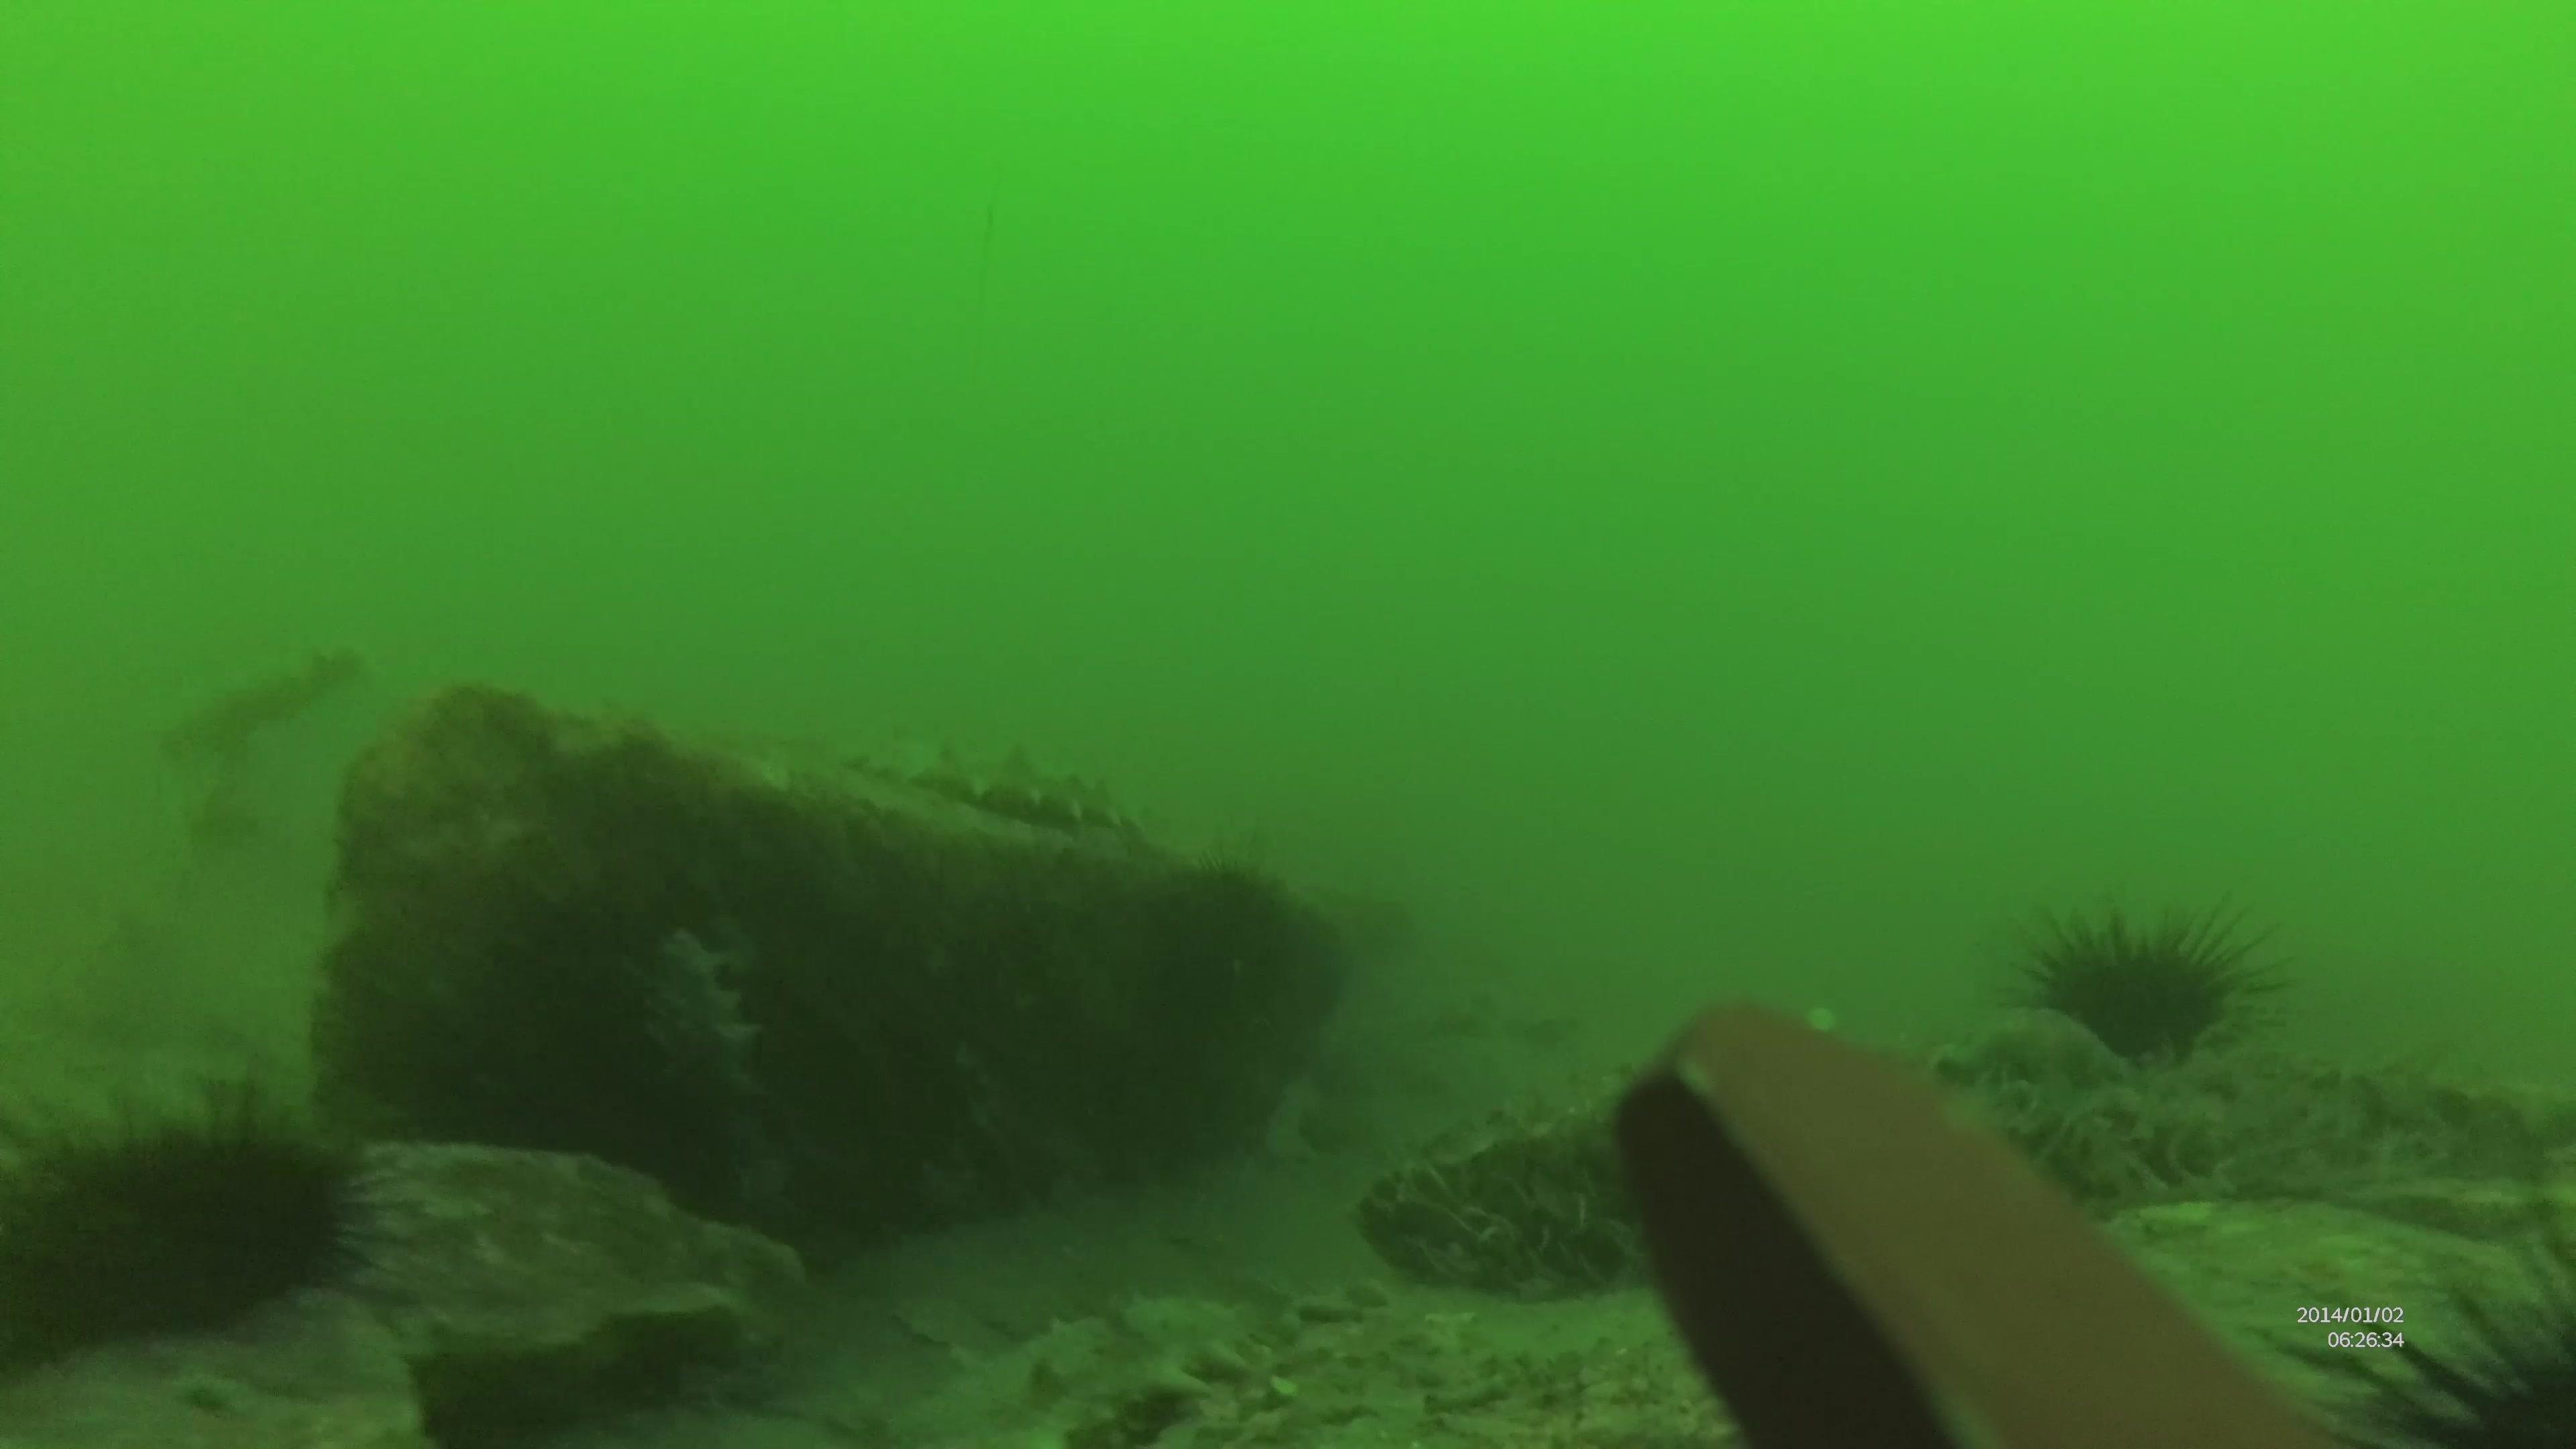echinus: (0, 1097, 435, 1355), (1982, 893, 2272, 1062)
holothurian: (646, 931, 805, 1226), (830, 718, 1155, 835)
